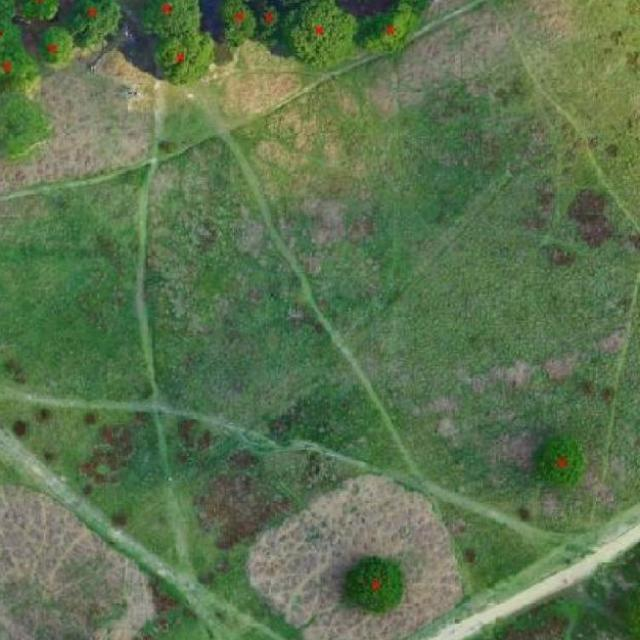tree: (280, 1, 363, 74), (337, 550, 414, 618), (529, 433, 589, 497), (153, 29, 218, 87), (0, 98, 46, 168), (595, 568, 639, 640), (139, 0, 209, 44), (358, 12, 414, 60), (34, 24, 76, 74), (70, 0, 118, 42), (0, 34, 33, 95), (250, 0, 288, 43), (220, 0, 256, 45), (385, 0, 444, 21), (16, 0, 62, 24), (0, 0, 27, 32)
